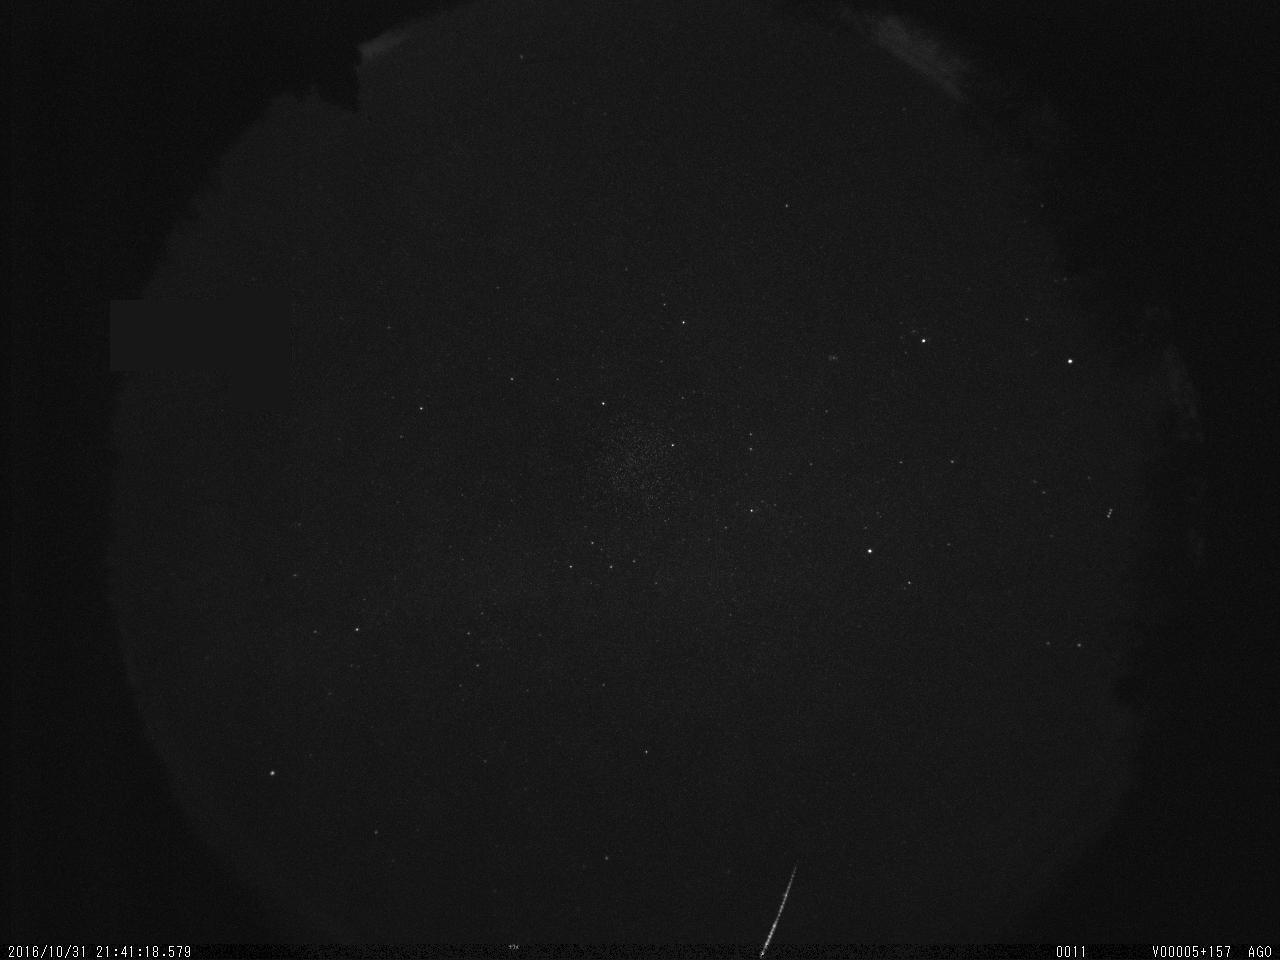Meteor: (757, 862, 798, 957)
